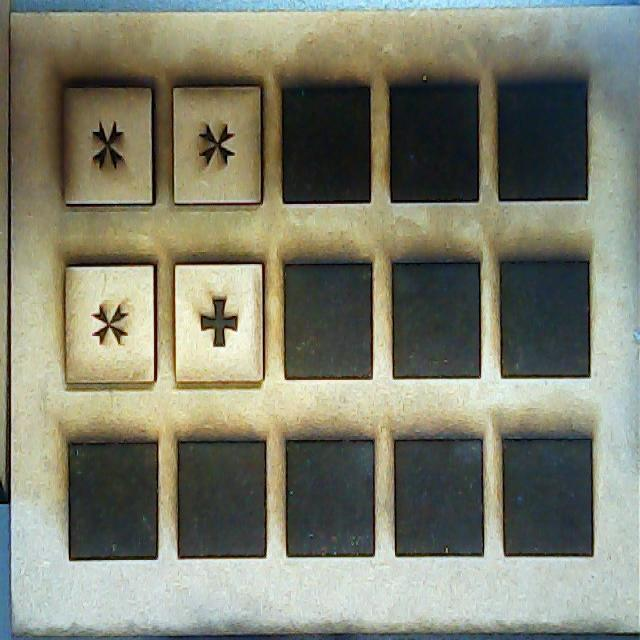maltese: (64, 85, 158, 202), (68, 262, 156, 384), (175, 85, 262, 202)
temple: (172, 262, 267, 382)
